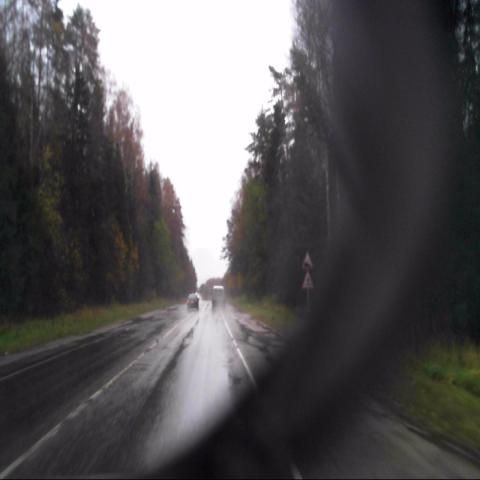1_13: (301, 251, 314, 271)
